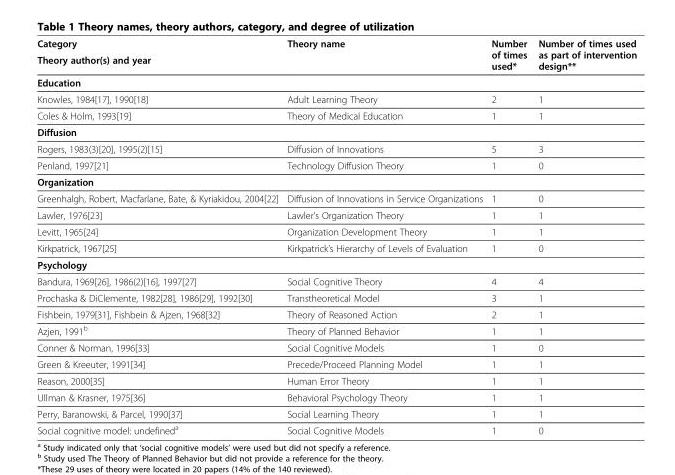table: (36, 37, 636, 435)
table column: (36, 37, 282, 435), (282, 37, 486, 435), (532, 37, 636, 435), (486, 37, 532, 435)
table column header: (36, 37, 636, 73)
table projected row header: (36, 73, 636, 90), (36, 123, 636, 140), (36, 173, 636, 189), (36, 256, 636, 272)
table row: (36, 51, 636, 73), (36, 321, 636, 339), (36, 73, 636, 90), (36, 90, 636, 107), (36, 123, 636, 140), (36, 156, 636, 173), (36, 189, 636, 206), (36, 206, 636, 223), (36, 239, 636, 256), (36, 272, 636, 289), (36, 355, 636, 372), (36, 388, 636, 405), (36, 107, 636, 123), (36, 140, 636, 156), (36, 173, 636, 189), (36, 223, 636, 239), (36, 256, 636, 272), (36, 289, 636, 305), (36, 305, 636, 321), (36, 339, 636, 355), (36, 372, 636, 388), (36, 405, 636, 421), (36, 37, 636, 51), (36, 421, 636, 435)
table spanning cell: (36, 37, 282, 73), (282, 37, 486, 73), (532, 37, 636, 73), (486, 37, 532, 73)
